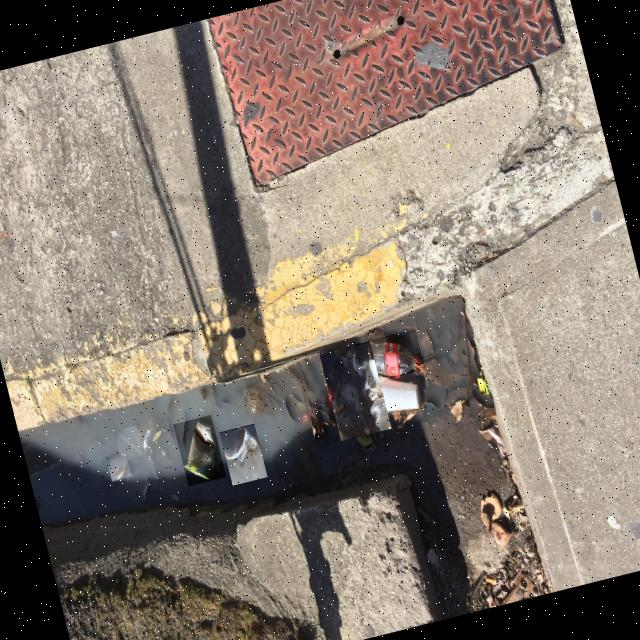Cigarette: (485, 577, 496, 583)
Clear plastic bottle: (359, 341, 423, 377)
Disposable plastic cup: (184, 417, 220, 479), (224, 428, 262, 481), (378, 376, 421, 413)
Plastic bottle cap: (477, 379, 485, 394), (327, 396, 336, 409)
Plastic lid: (108, 455, 127, 479)
Plastic straw: (114, 431, 143, 455)
Single-use carrier bag: (332, 346, 384, 437)
